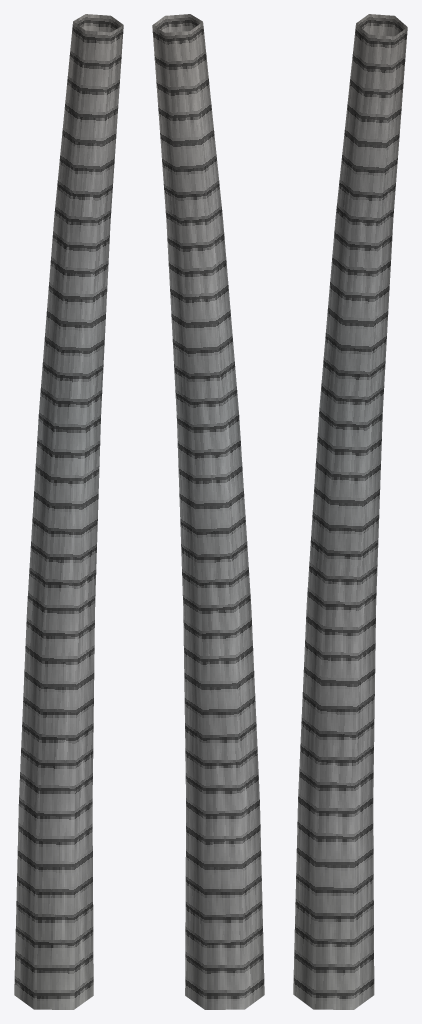
File: palm_short_bark_l1.gltf
3 renders of one model, left to right at view 1: azimuth 30°, elevation 25°; view 2: azimuth 150°, elevation 25°; view 3: azimuth 330°, elevation 25°, orthographic. The views are drawn at different scales.
Visible parts, largest first — view 1: palm_short_bark_l1; view 2: palm_short_bark_l1; view 3: palm_short_bark_l1.
Part boxes in pixels (x1,y1,x2,y2): palm_short_bark_l1: (14,14,123,1009); palm_short_bark_l1: (152,14,264,1009); palm_short_bark_l1: (293,14,407,1009).
Size of the model in its own units: 0.464 by 4.51 by 0.3375.
1 material, 1 textured.
